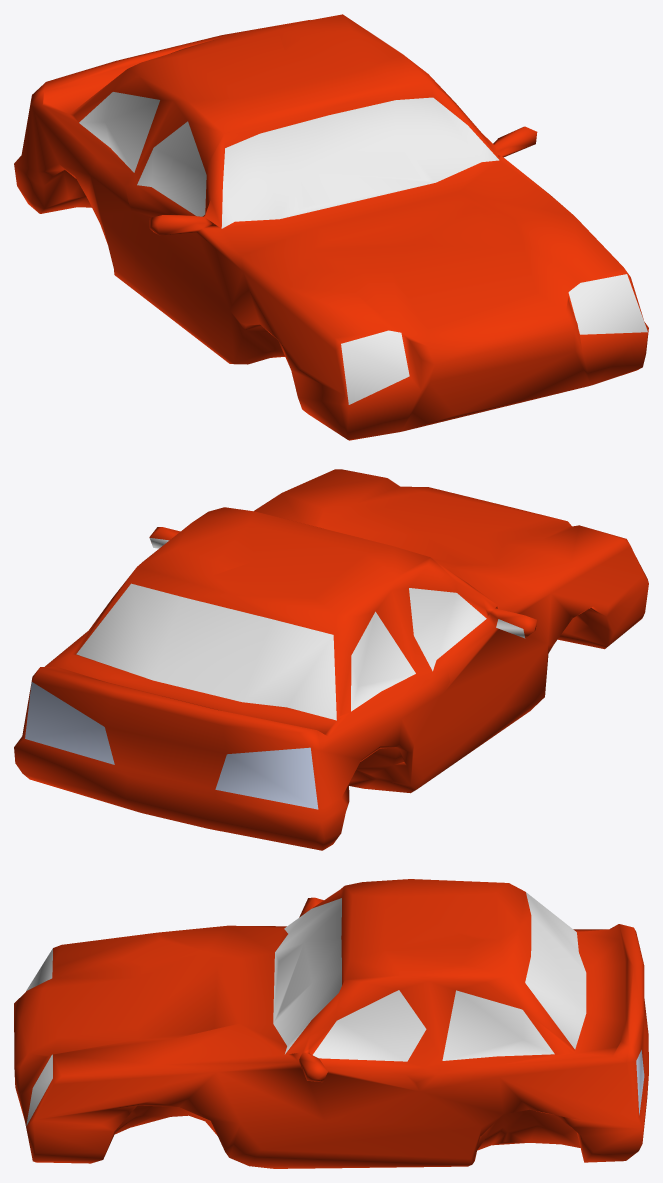
The model's file is car.fbx.
3 renders of one model, top to bottom at view 1: azimuth 30°, elevation 25°; view 2: azimuth 150°, elevation 25°; view 3: azimuth 270°, elevation 25°, orthographic. The views are drawn at different scales.
Visible parts, largest first — view 1: model; view 2: model; view 3: model.
Part boxes in pixels (x1,y1,x2,y2): model: [14, 14, 648, 440]; model: [14, 469, 648, 850]; model: [14, 879, 648, 1168].
Bounding box in the file's own units: 123 × 59.46 × 188.
